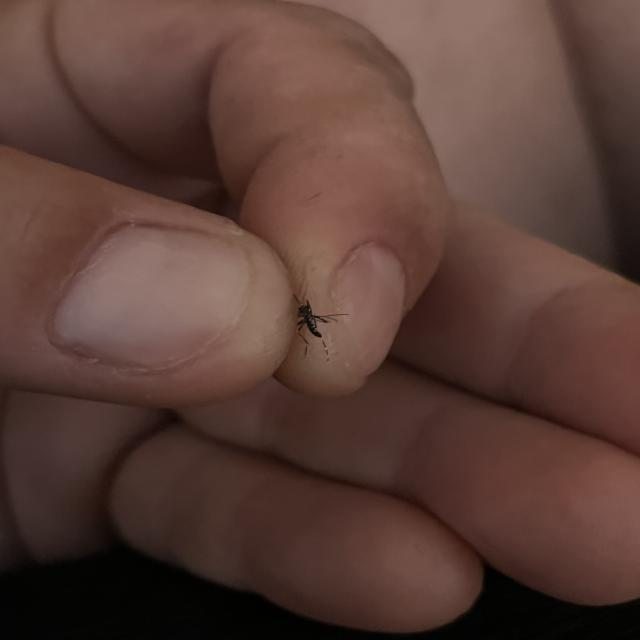albopictus: (289, 290, 350, 362)
